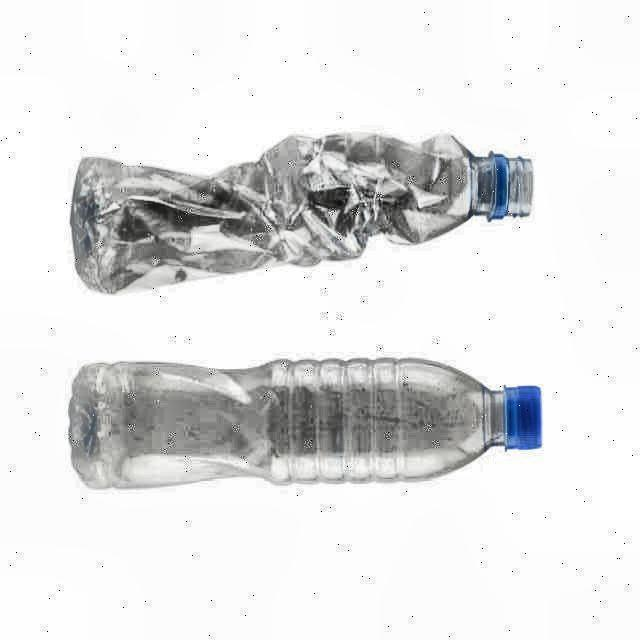plastic: (71, 134, 532, 293), (69, 359, 541, 488)
